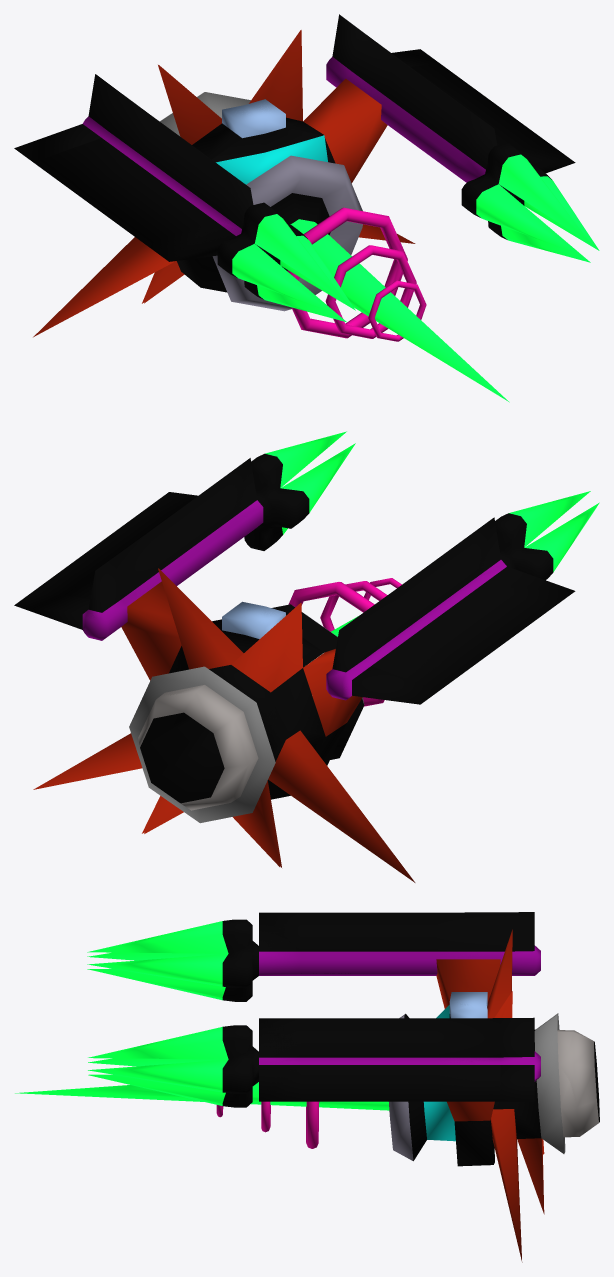
The model's file is EnemyTypeB.fbx.
3 renders of one model, top to bottom at view 1: azimuth 30°, elevation 25°; view 2: azimuth 150°, elevation 25°; view 3: azimuth 270°, elevation 25°, orthographic. The views are drawn at different scales.
Visible parts, largest first — view 1: 腕, obj1, 発射口, 輪1, 輪2, 輪3; view 2: 腕, obj1, 輪1, 輪2; view 3: 腕, obj1, 発射口, 輪1.
Part boxes in pixels (left/top/right/bottom): 腕: left=14, top=14, right=599, bottom=322; obj1: left=33, top=30, right=415, bottom=337; 発射口: left=290, top=219, right=509, bottom=402; 輪1: left=287, top=207, right=407, bottom=338; 輪2: left=325, top=245, right=416, bottom=338; 輪3: left=368, top=280, right=426, bottom=341; 腕: left=14, top=431, right=599, bottom=704; obj1: left=33, top=568, right=415, bottom=882; 輪1: left=288, top=582, right=384, bottom=706; 輪2: left=320, top=581, right=387, bottom=631; 腕: left=87, top=912, right=540, bottom=1107; obj1: left=389, top=929, right=599, bottom=1262; 発射口: left=15, top=1082, right=389, bottom=1110; 輪1: left=306, top=1101, right=319, bottom=1148.
Size of the model in its own units: 6.79 by 4.04 by 9.54.
